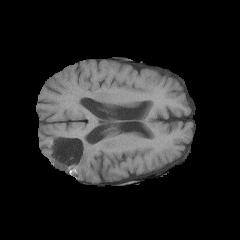glioma: (53, 136, 101, 178)
